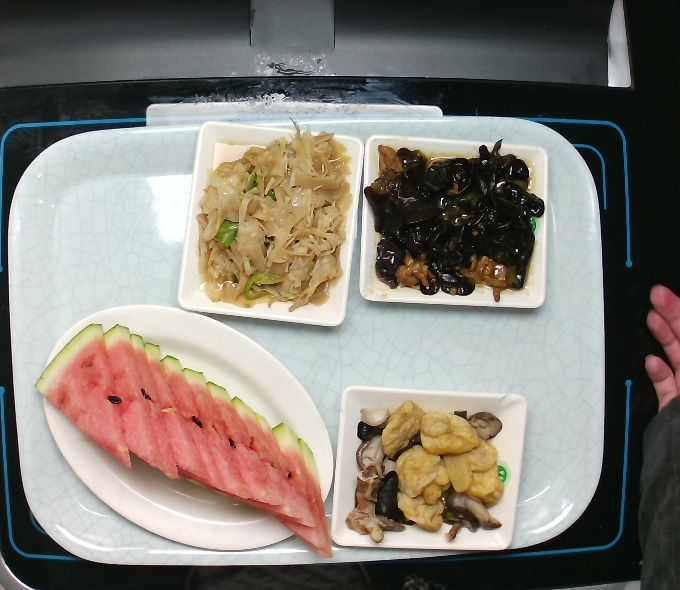wcq-LuSun: (194, 120, 355, 315)
wcq-MuErChaoRou: (364, 136, 547, 309)
wcq-XiGua: (29, 324, 335, 558)
wcq-YouPaoPaiGu: (339, 400, 511, 549)
